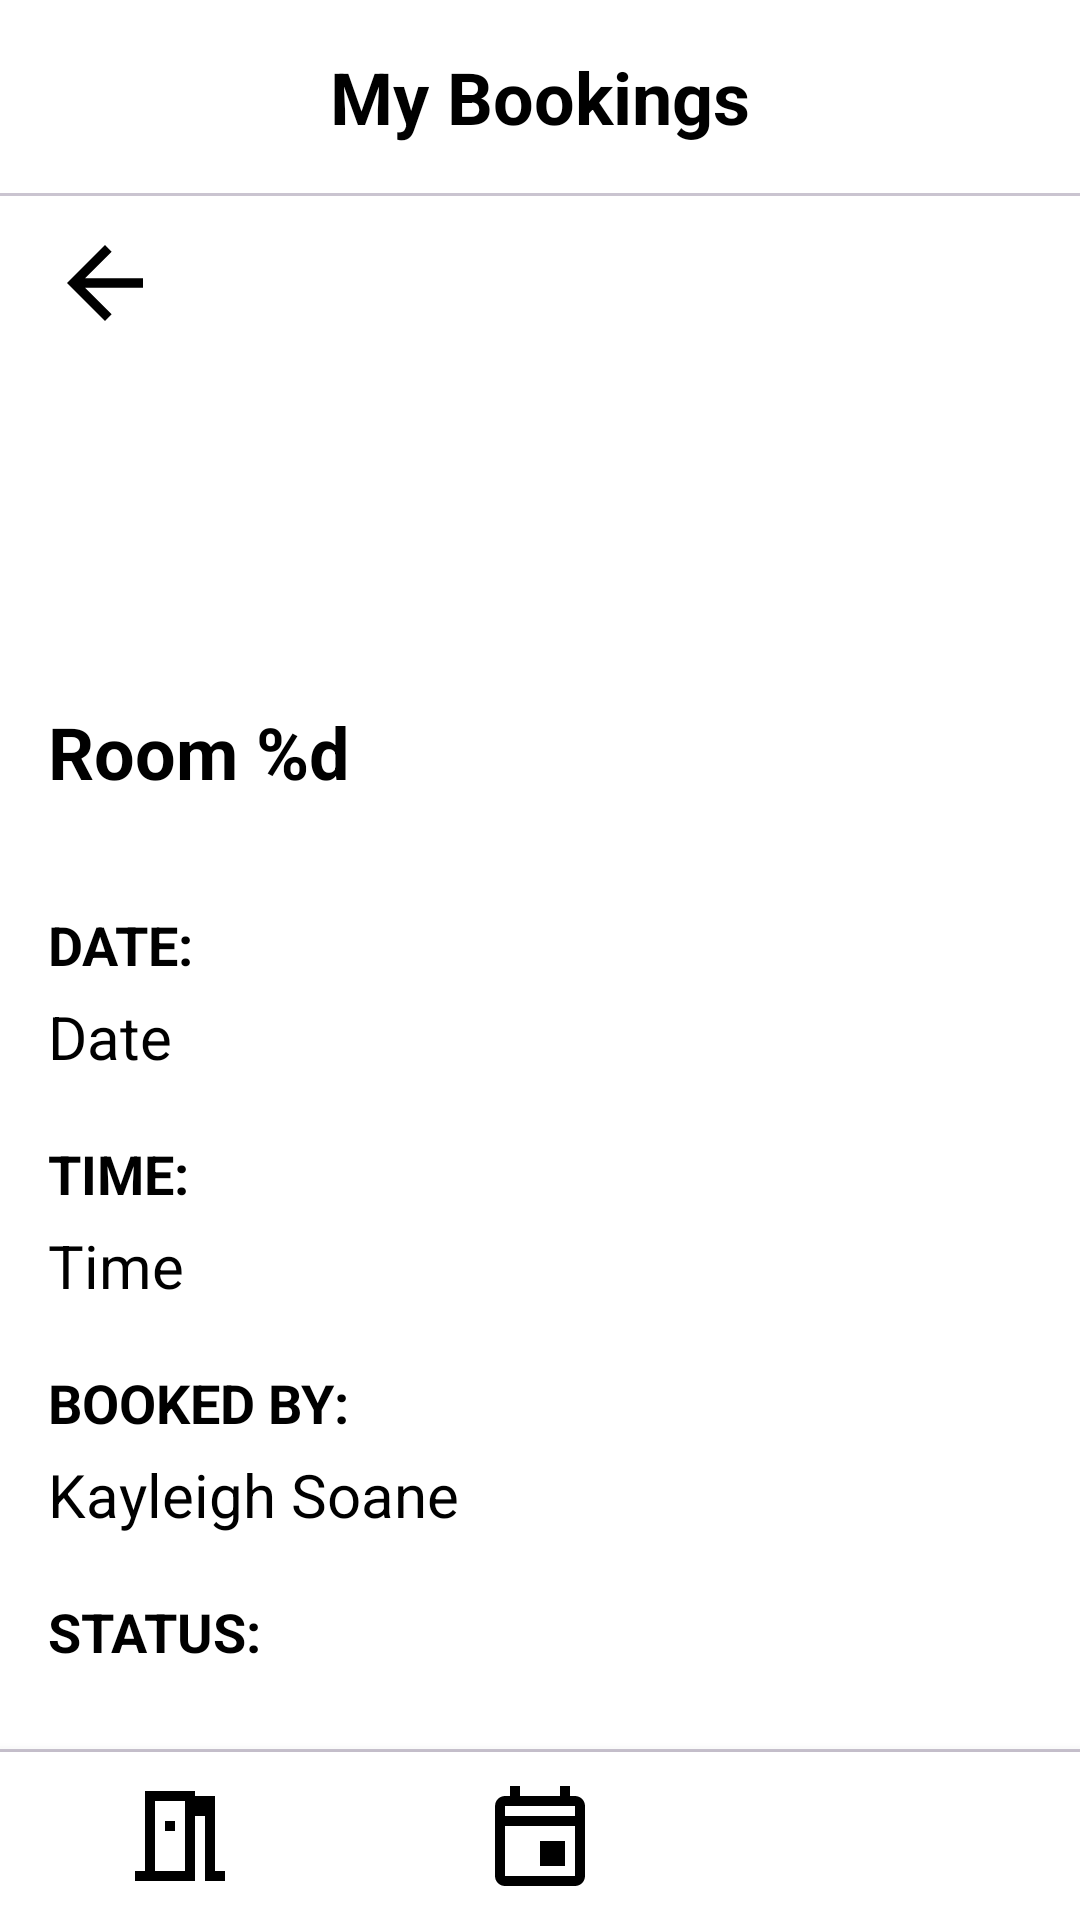

Icon click points for this 1080px×1920px phone screenshot, format (x=x, y=y):
Back button: (x=105, y=283)
